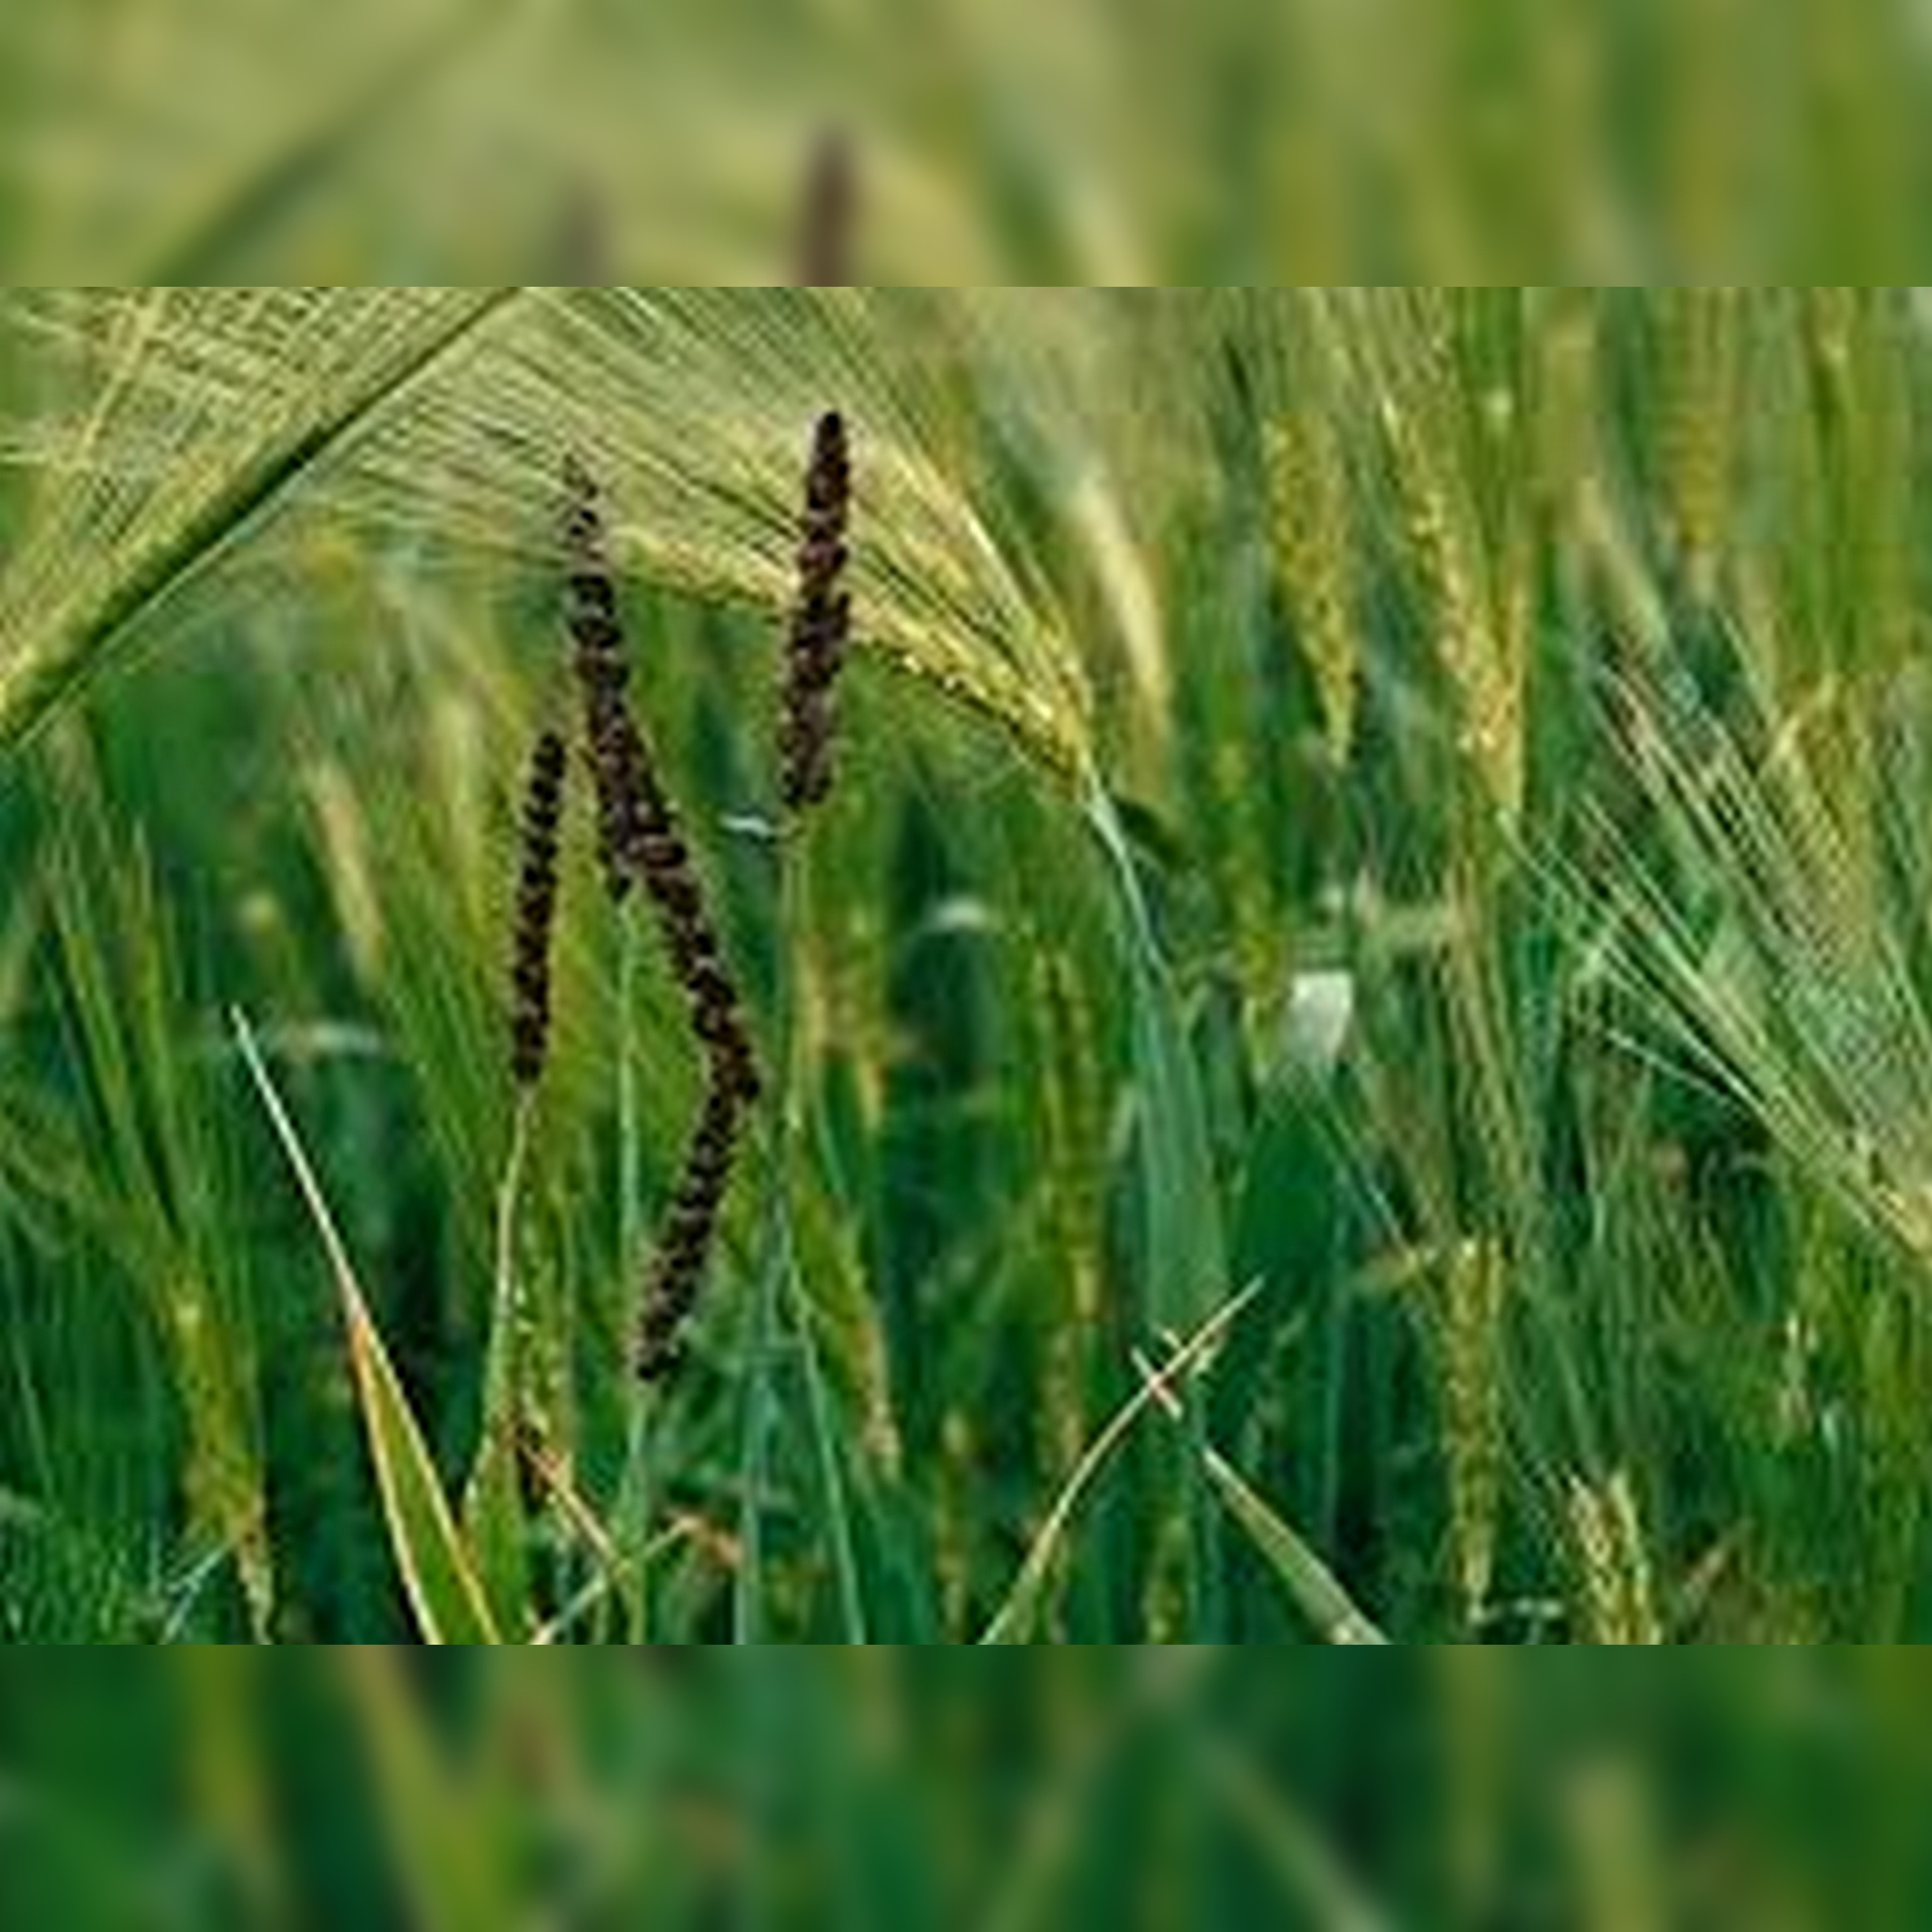Wheat Loose Smut: (453, 419, 872, 1361)
